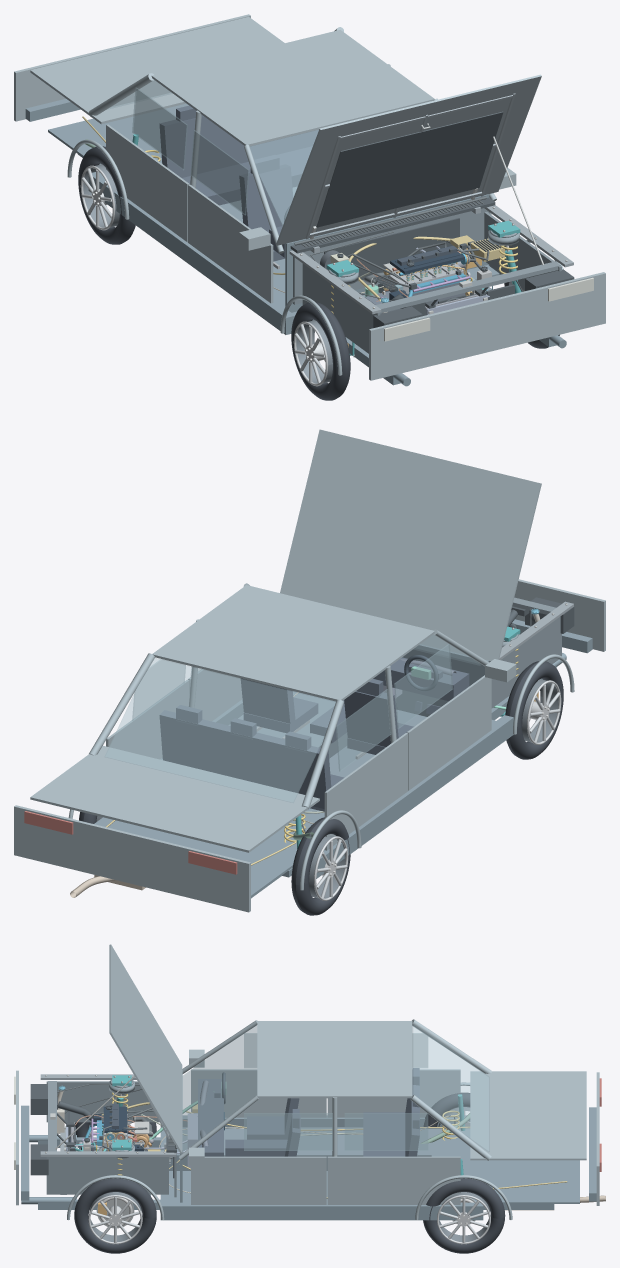
File: cruze-full-r6.glb
The picture shows the model from 3 angles, top to bottom: view 1: azimuth 30°, elevation 25°; view 2: azimuth 150°, elevation 25°; view 3: azimuth 270°, elevation 25°; orthographic projection. The views are drawn at different scales.
Parts seen in each view (by area): view 1: roof, bay_hood_pad, front_fascia, hood, trunk_lid, front_door_L, rear_seat_back, rear_door_L, sill_L, windshield, bay_firewall_insulation, rear_floor (+34 smaller); view 2: hood, rear_glass, roof, trunk_lid, rear_fascia, rear_seat_back, front_door_L, rear_door_L, sill_L, rear_floor, sideglass_front_L, sideglass_rear_L (+25 smaller); view 3: roof, trunk_lid, hood, front_door_R, rear_door_R, rear_glass, windshield, sill_R, rear_floor, bay_apron_R, sideglass_front_R, sideglass_rear_R (+34 smaller).
Boxes of the visible parts, <box> form: roof: <box>151,30,434,146</box>; bay_hood_pad: <box>316,111,503,227</box>; front_fascia: <box>369,272,605,380</box>; hood: <box>276,74,541,245</box>; trunk_lid: <box>30,17,284,124</box>; front_door_L: <box>188,184,273,303</box>; rear_seat_back: <box>159,115,318,177</box>; rear_door_L: <box>106,124,189,242</box>; sill_L: <box>88,172,294,334</box>; windshield: <box>250,130,318,225</box>; bay_firewall_insulation: <box>324,218,459,280</box>; rear_floor: <box>48,103,188,164</box>; hood: <box>280,429,541,660</box>; rear_glass: <box>105,658,335,802</box>; roof: <box>152,585,434,701</box>; trunk_lid: <box>30,745,319,852</box>; rear_fascia: <box>14,805,250,912</box>; rear_seat_back: <box>159,710,331,808</box>; front_door_L: <box>406,675,491,790</box>; rear_door_L: <box>324,733,408,850</box>; sill_L: <box>316,715,513,878</box>; rear_floor: <box>94,817,297,897</box>; sideglass_front_L: <box>394,644,452,728</box>; sideglass_rear_L: <box>336,689,391,771</box>; roof: <box>257,1021,412,1098</box>; trunk_lid: <box>470,1071,586,1160</box>; hood: <box>109,944,182,1153</box>; front_door_R: <box>191,1156,326,1204</box>; rear_door_R: <box>327,1156,460,1204</box>; rear_glass: <box>412,1024,489,1152</box>; windshield: <box>183,1025,256,1151</box>; sill_R: <box>160,1202,483,1220</box>; rear_floor: <box>451,1128,579,1203</box>; bay_apron_R: <box>46,1157,168,1194</box>; sideglass_front_R: <box>244,1113,332,1150</box>; sideglass_rear_R: <box>344,1113,428,1150</box>.
Bounding box in the file's own units: 19.6 × 19 × 45.88.
